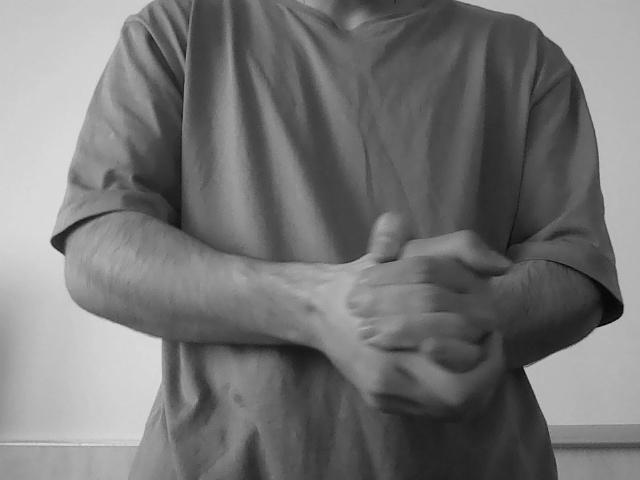friend: (335, 235, 535, 401)
